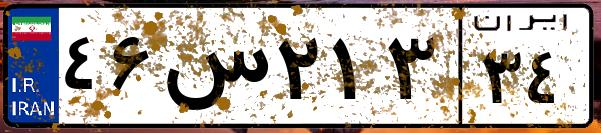1: (330, 28, 385, 110)
2: (270, 28, 330, 110)
3: (385, 28, 445, 110), (475, 38, 525, 113)
4: (57, 26, 110, 100), (525, 38, 570, 115)
6: (110, 28, 158, 98)
س: (158, 20, 270, 120)
